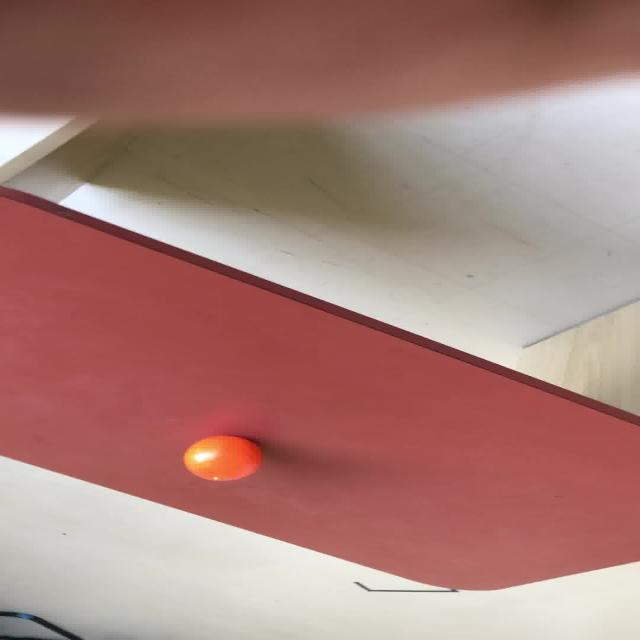orange: (182, 434, 262, 481)
